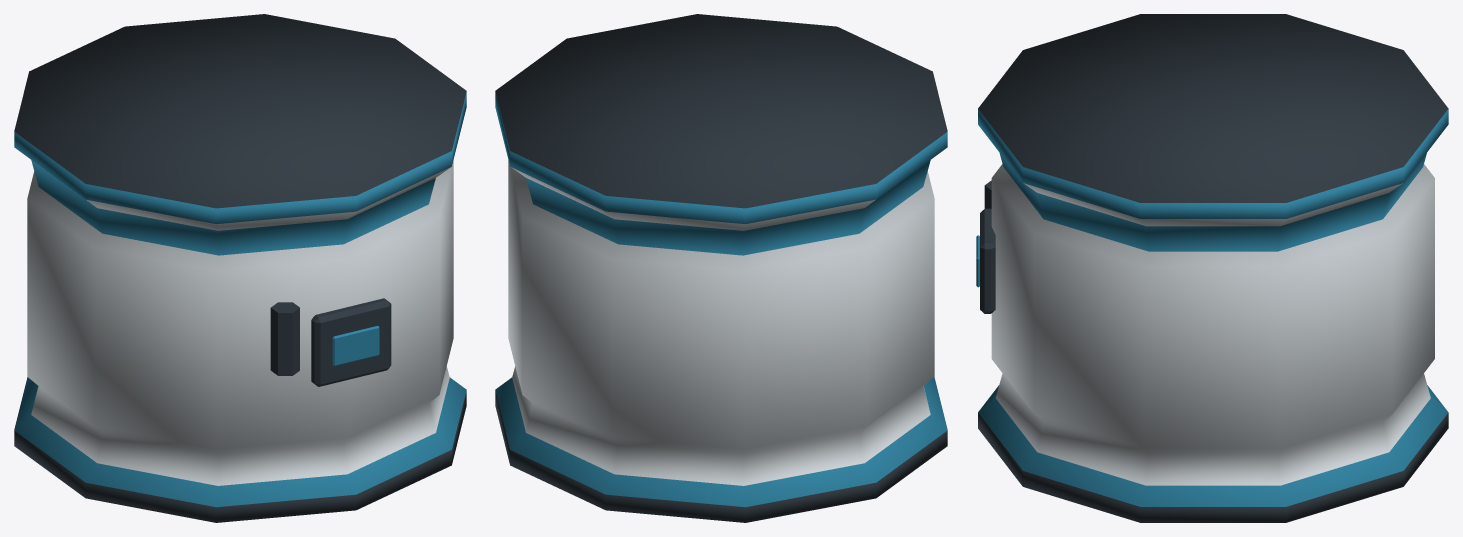
The model's file is perilune-pl100-tank.glb.
3 views of the same model, side by side, from view 1: azimuth 30°, elevation 25°; view 2: azimuth 150°, elevation 25°; view 3: azimuth 270°, elevation 25° (orthographic).
Visible parts, largest first — view 1: SM_PL100_PressureShell_LOD0, SM_PL100_ServicePanel, SM_PL100_FillValve, SM_PL100_IdentificationPlate; view 2: SM_PL100_PressureShell_LOD0; view 3: SM_PL100_PressureShell_LOD0, SM_PL100_ServicePanel.
Boxes of the visible parts, x1,y1,x2,y2 form: SM_PL100_PressureShell_LOD0: (14, 14, 466, 522); SM_PL100_ServicePanel: (311, 298, 391, 386); SM_PL100_FillValve: (270, 302, 299, 375); SM_PL100_IdentificationPlate: (332, 325, 379, 366); SM_PL100_PressureShell_LOD0: (495, 14, 947, 522); SM_PL100_PressureShell_LOD0: (978, 14, 1448, 522); SM_PL100_ServicePanel: (980, 208, 995, 313).
Size of the model in its own units: 1.14 by 0.9 by 1.2.
